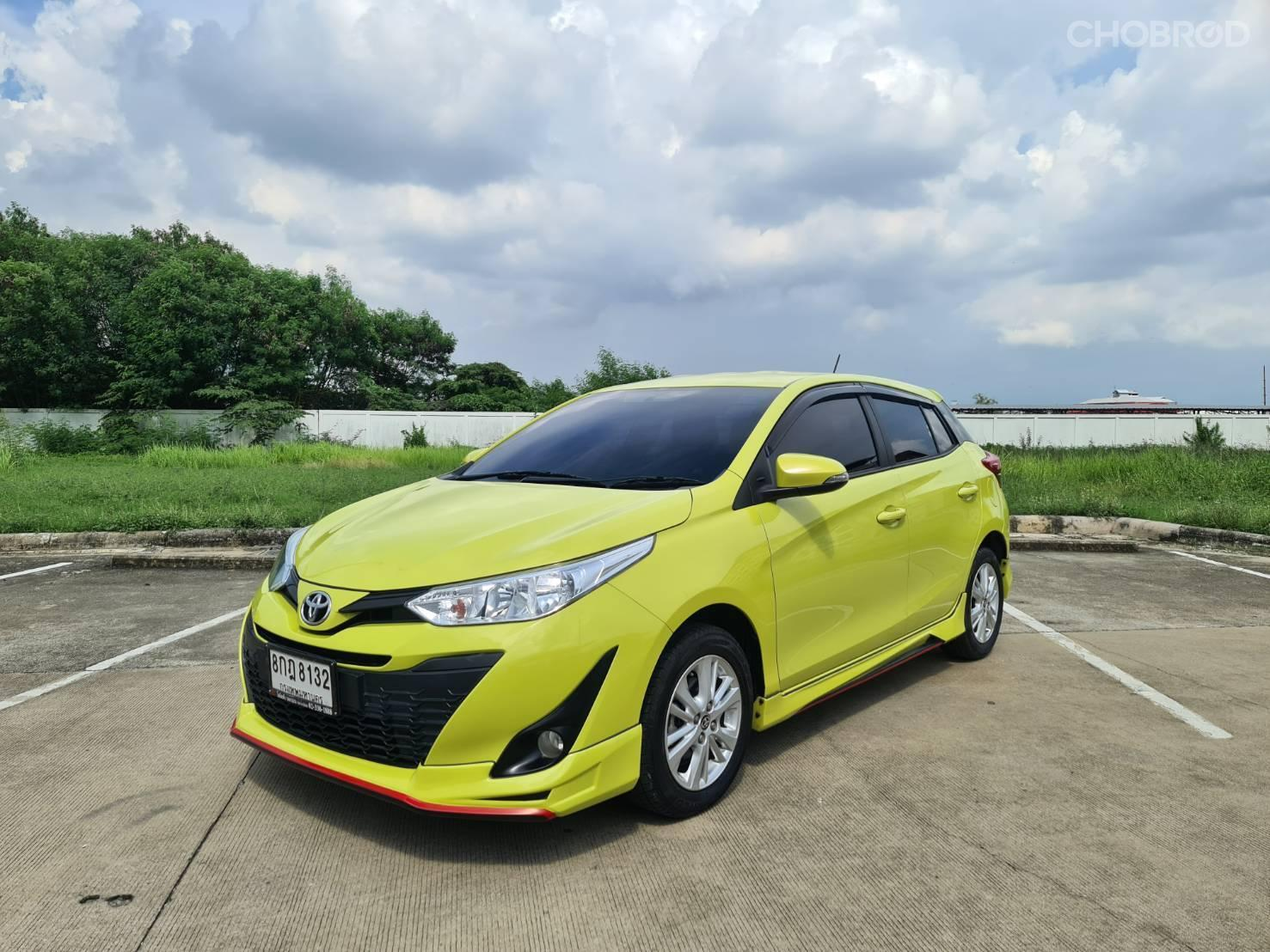license-plate: (264, 643, 345, 723)
